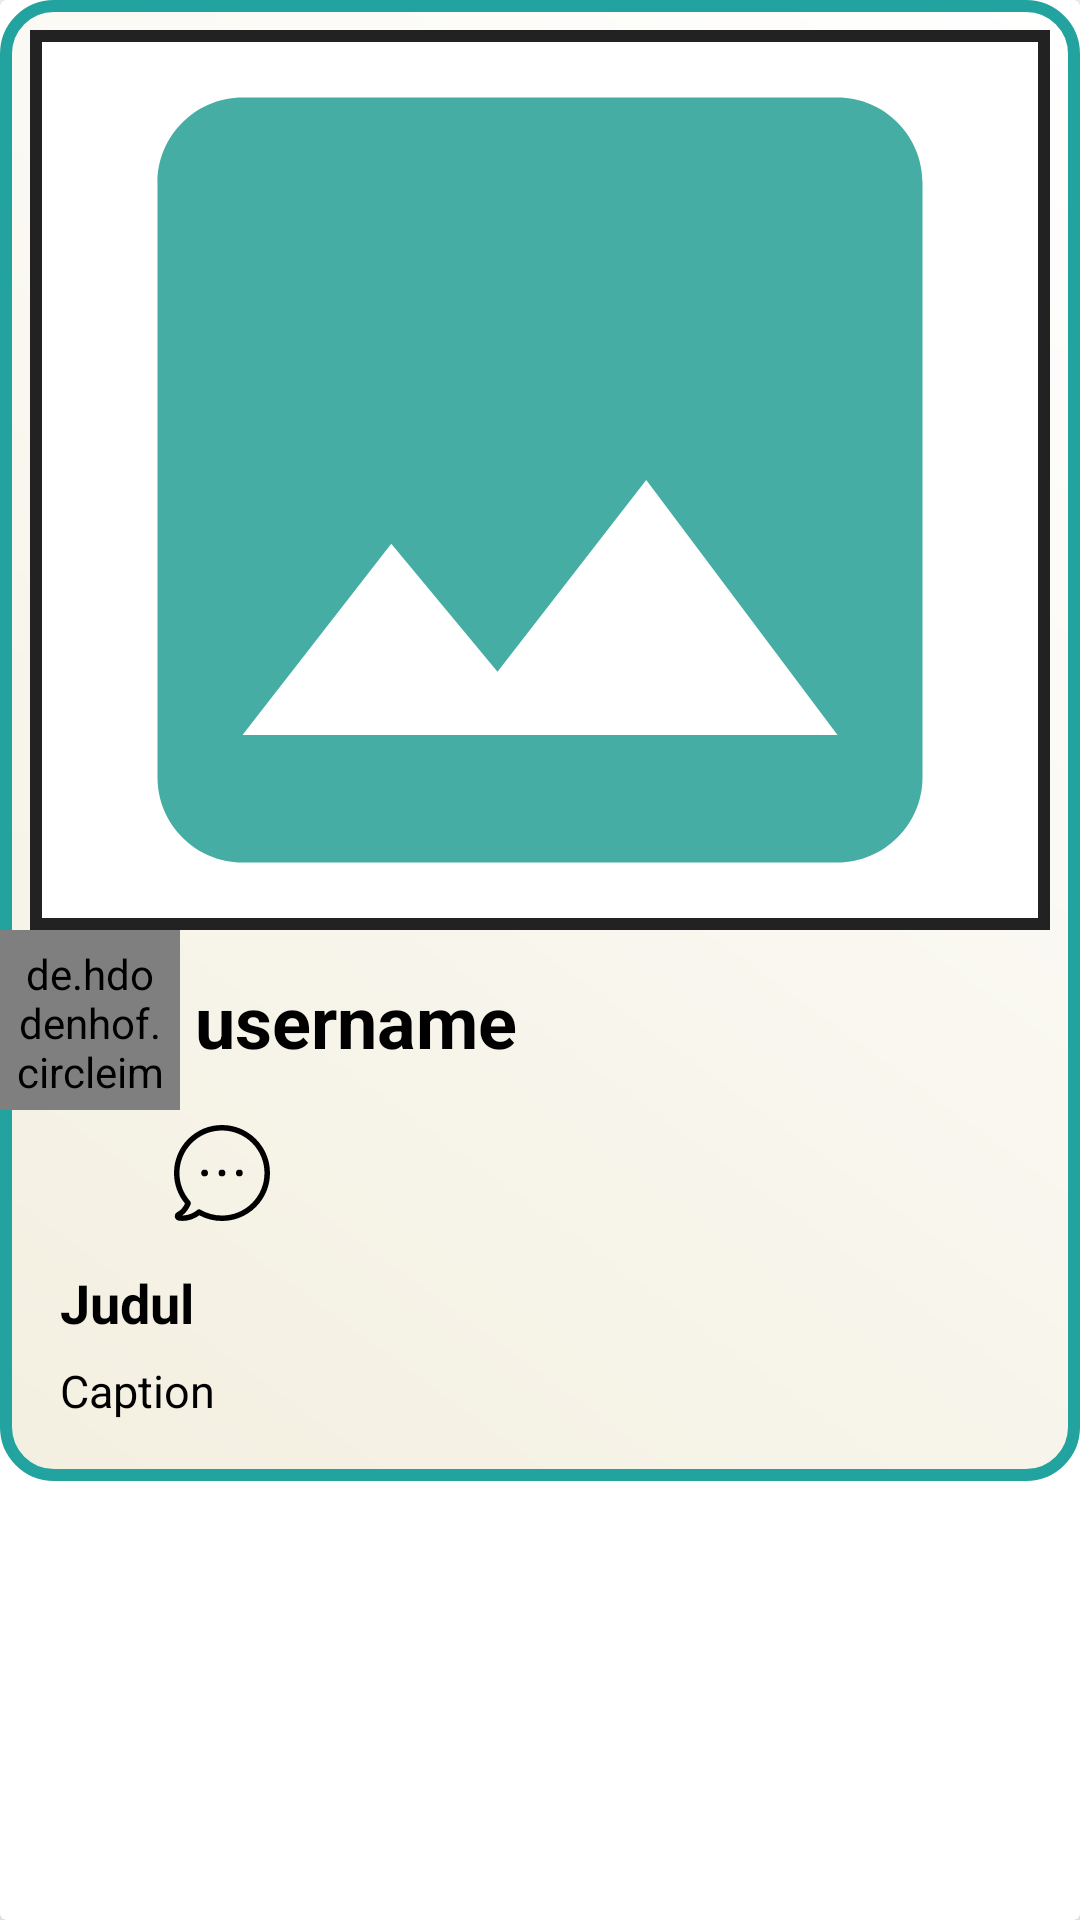

Icon bounding boxes for this 1080 x 1920 phone screenshot, format bbox(x1, y1, x2, y2):
discuss: bbox(174, 1125, 270, 1221)
